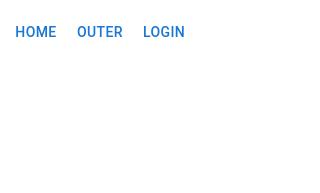
Test: <Header /> › should click subMenu and close subMenu
The image size is (320, 193).
Step 1. Click the button "Outer" → (100, 32), box [68, 14, 132, 50]
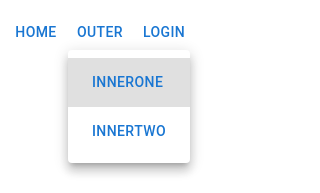
Step 2. Click the button "InnerOne" → (128, 82), box [84, 64, 171, 100]
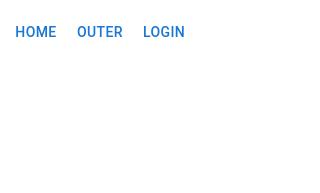
Check: the button "InnerOne" is gone
